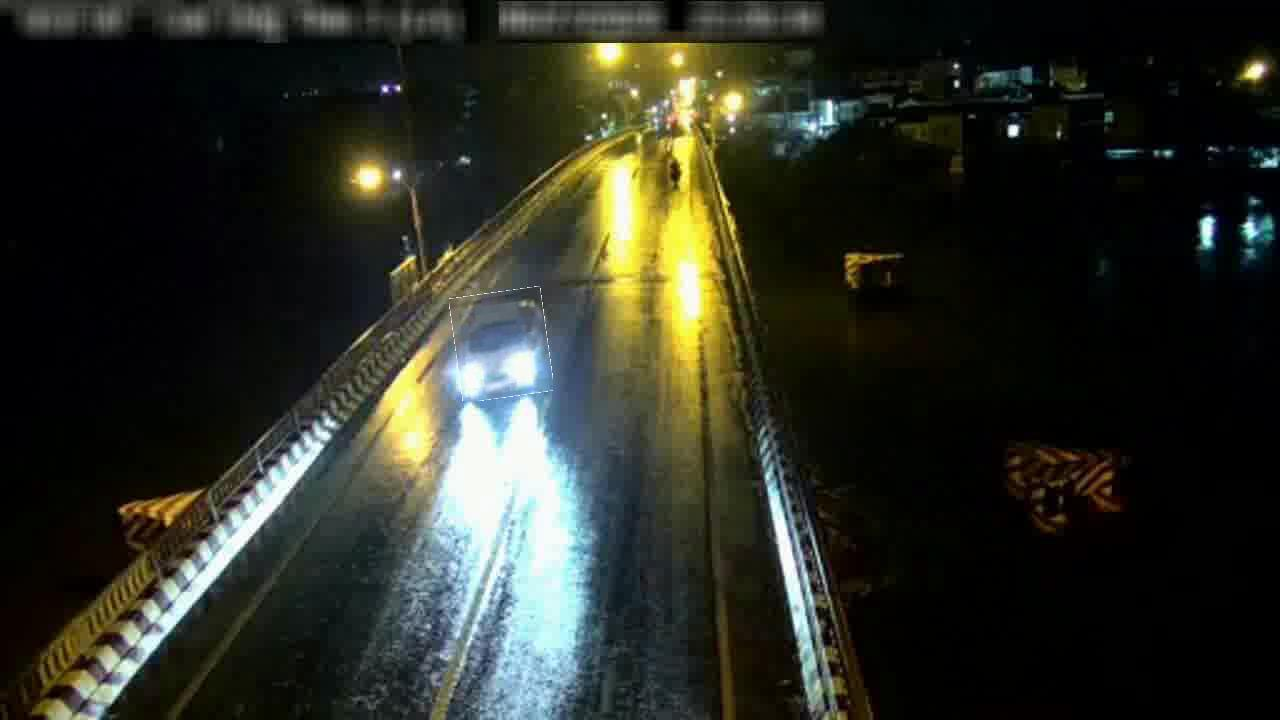container: (453, 289, 551, 400)
